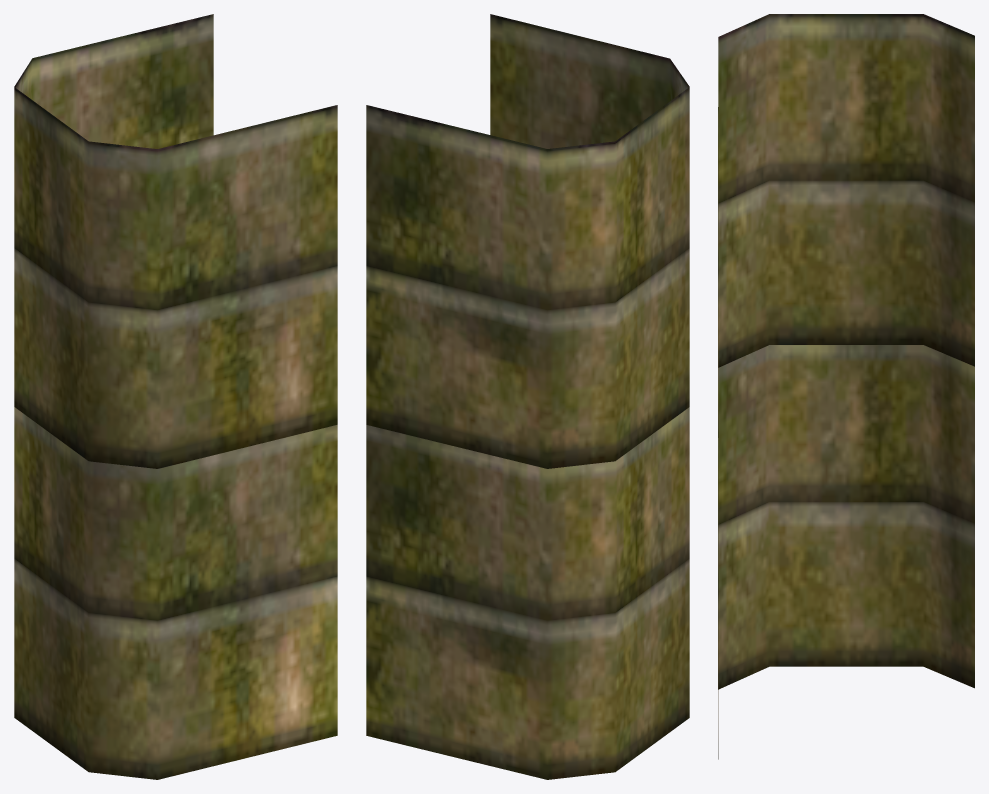
File: OVERHILL_A_01_LINE433.fbx
3 views of the same model, side by side, from view 1: azimuth 30°, elevation 25°; view 2: azimuth 150°, elevation 25°; view 3: azimuth 270°, elevation 25° (orthographic). The views are drawn at different scales.
Visible parts, largest first — view 1: OVERHILL_A_01_LINE433; view 2: OVERHILL_A_01_LINE433; view 3: OVERHILL_A_01_LINE433.
Boxes of the visible parts, x1=… form: OVERHILL_A_01_LINE433: x1=14, y1=14, x2=337, y2=779; OVERHILL_A_01_LINE433: x1=366, y1=14, x2=689, y2=779; OVERHILL_A_01_LINE433: x1=718, y1=14, x2=974, y2=759.
Size of the model in its own units: 10021 by 26954 by 9604.
Materials: 1 (1 with a texture image).
